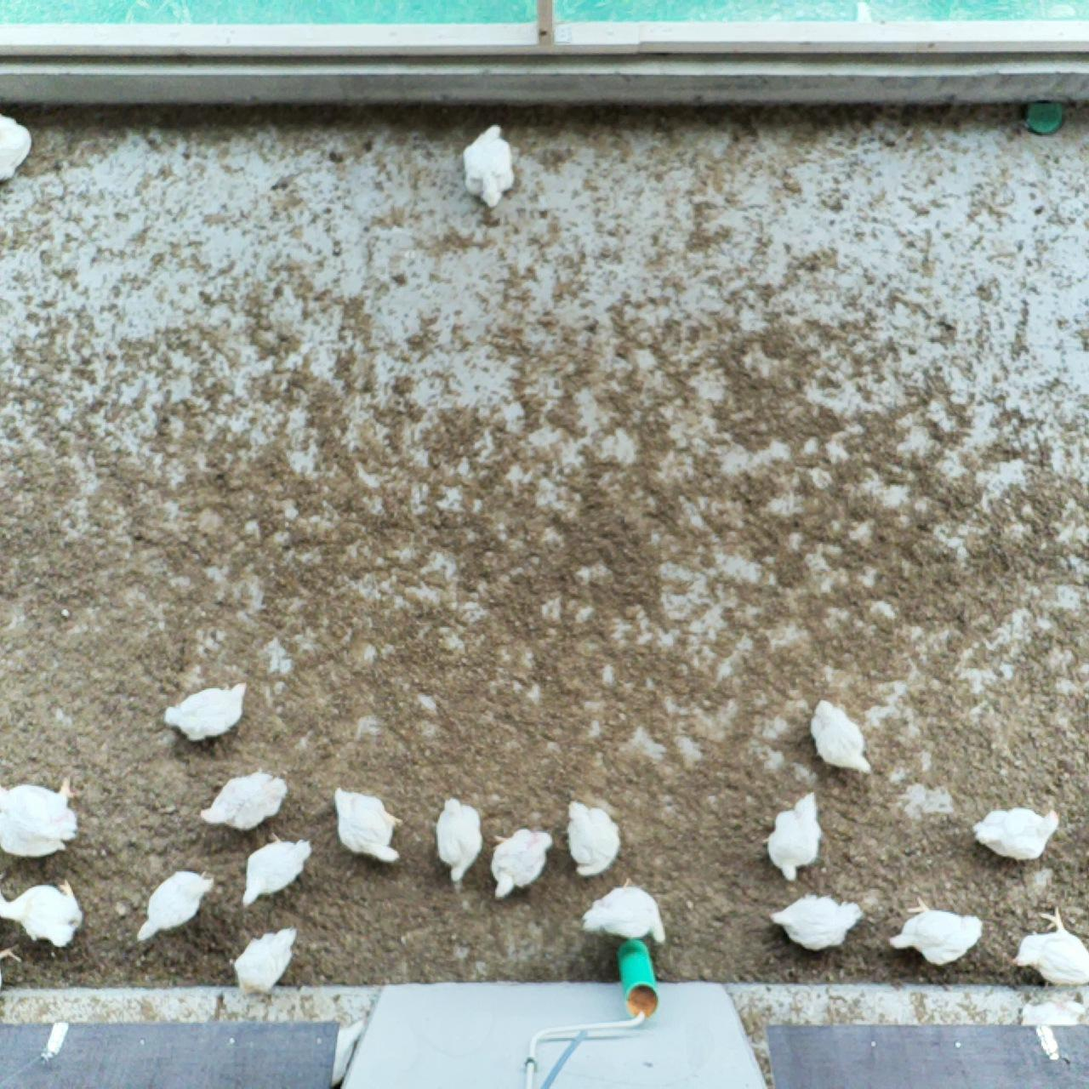chicken: (881, 892, 987, 968), (0, 773, 83, 859), (133, 866, 217, 945), (1010, 905, 1089, 987), (0, 878, 87, 950), (579, 877, 669, 946), (764, 891, 864, 953), (162, 678, 253, 746), (330, 785, 408, 864), (761, 790, 825, 883), (239, 830, 314, 909), (199, 769, 287, 833), (807, 696, 877, 776), (969, 804, 1060, 863), (459, 120, 517, 210), (231, 925, 299, 1001), (489, 827, 555, 903), (566, 796, 623, 877), (434, 795, 485, 884), (0, 112, 36, 187)
